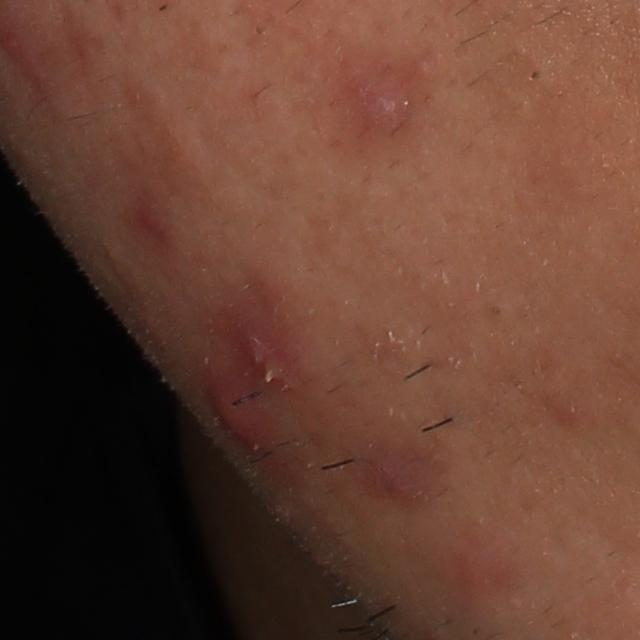comedo: (524, 66, 544, 87)
papule: (228, 314, 315, 401), (206, 369, 280, 459), (355, 75, 407, 135), (0, 15, 34, 67)
